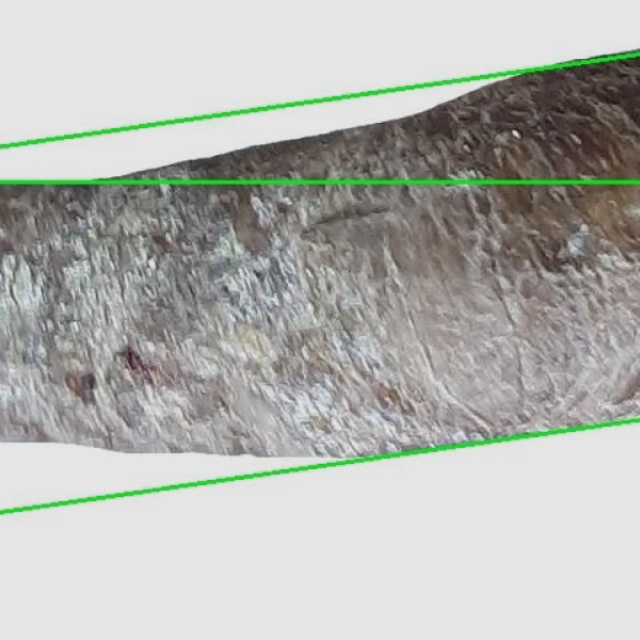Eczema: (0, 54, 639, 511), (0, 0, 639, 182)
